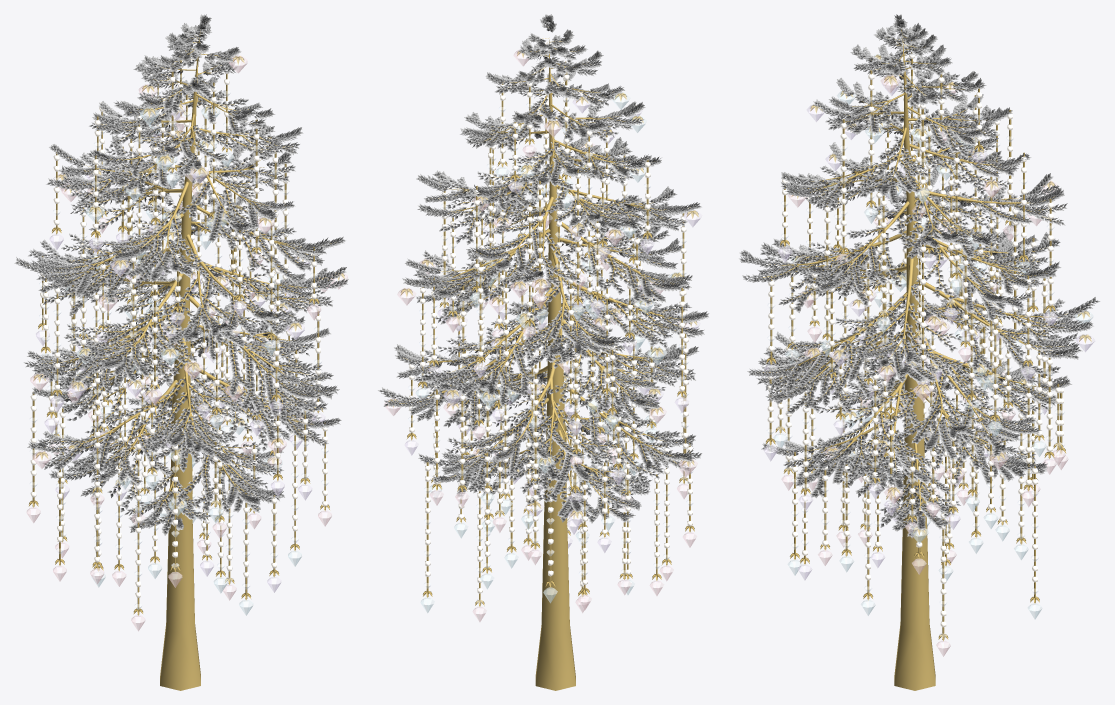
Rendered from houju_takara.glb.
3 views of the same model, side by side, from view 1: azimuth 30°, elevation 25°; view 2: azimuth 150°, elevation 25°; view 3: azimuth 270°, elevation 25° (orthographic). The views are drawn at different scales.
Parts seen in each view (by area): view 1: object 2, object 1, pearl_batch, gold_wire, hari_batch, sakura_batch, fuji_batch, mizu_batch, gold_fitting; view 2: object 2, object 1, pearl_batch, gold_wire, hari_batch, sakura_batch, mizu_batch, fuji_batch, gold_fitting; view 3: object 2, object 1, pearl_batch, gold_wire, hari_batch, sakura_batch, mizu_batch, gold_fitting, fuji_batch.
Part boxes in pixels (bbox=[...]): object 2: bbox=[14, 14, 348, 535]; object 1: bbox=[28, 31, 335, 690]; pearl_batch: bbox=[30, 52, 327, 597]; gold_wire: bbox=[32, 60, 325, 614]; hari_batch: bbox=[29, 73, 328, 609]; sakura_batch: bbox=[26, 55, 347, 631]; fuji_batch: bbox=[36, 103, 325, 592]; mizu_batch: bbox=[39, 106, 301, 615]; gold_fitting: bbox=[28, 56, 344, 615]; object 2: bbox=[378, 14, 709, 523]; object 1: bbox=[399, 27, 691, 690]; pearl_batch: bbox=[409, 66, 692, 593]; gold_wire: bbox=[411, 61, 690, 605]; hari_batch: bbox=[408, 97, 693, 604]; sakura_batch: bbox=[384, 49, 697, 621]; mizu_batch: bbox=[415, 92, 685, 612]; fuji_batch: bbox=[404, 95, 702, 552]; gold_fitting: bbox=[387, 51, 698, 606]; object 2: bbox=[739, 14, 1100, 537]; object 1: bbox=[758, 29, 1070, 690]; pearl_batch: bbox=[767, 53, 1063, 627]; gold_wire: bbox=[769, 52, 1062, 639]; hari_batch: bbox=[766, 75, 1064, 638]; sakura_batch: bbox=[781, 75, 1068, 656]; mizu_batch: bbox=[773, 54, 1093, 619]; gold_fitting: bbox=[765, 54, 1091, 640]; fuji_batch: bbox=[763, 80, 1094, 580].
Bounding box in the file's own units: 7.53 × 15.83 × 7.72.
Materials: 8 (1 with a texture image).
